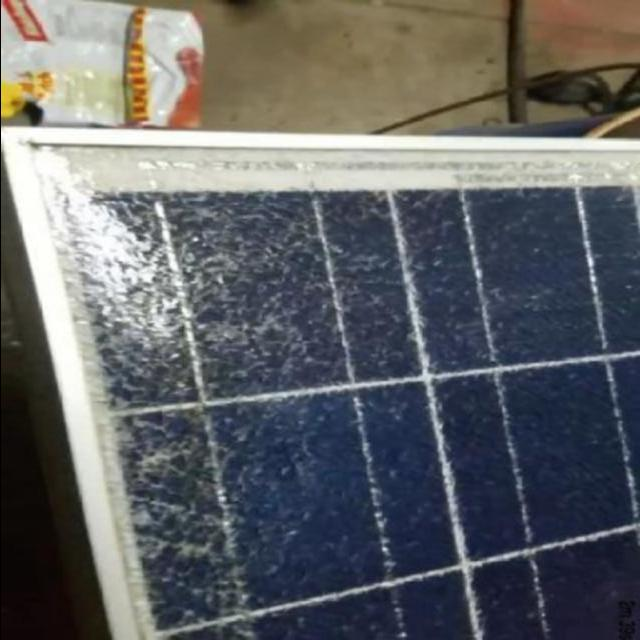cracked: (17, 134, 637, 636)
